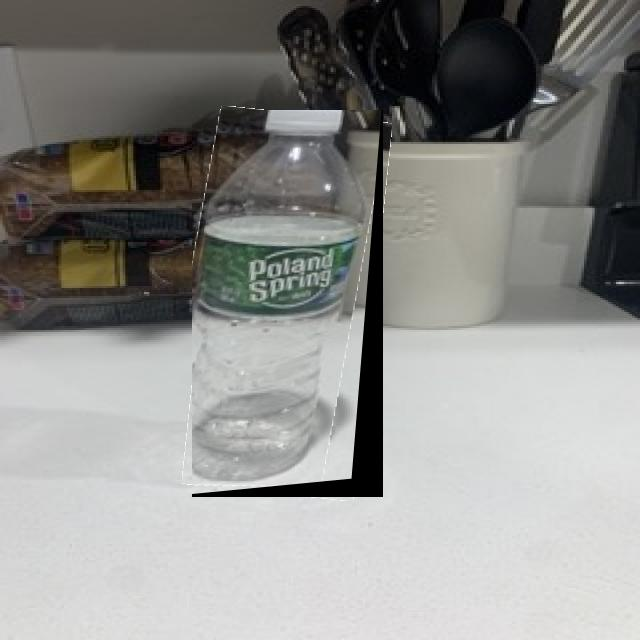water_bottle: (192, 110, 383, 497)
